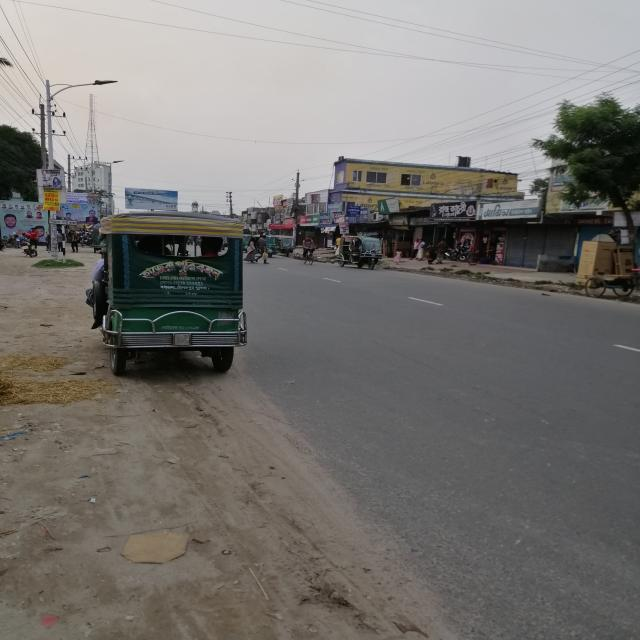Easybike: (85, 205, 268, 382)
